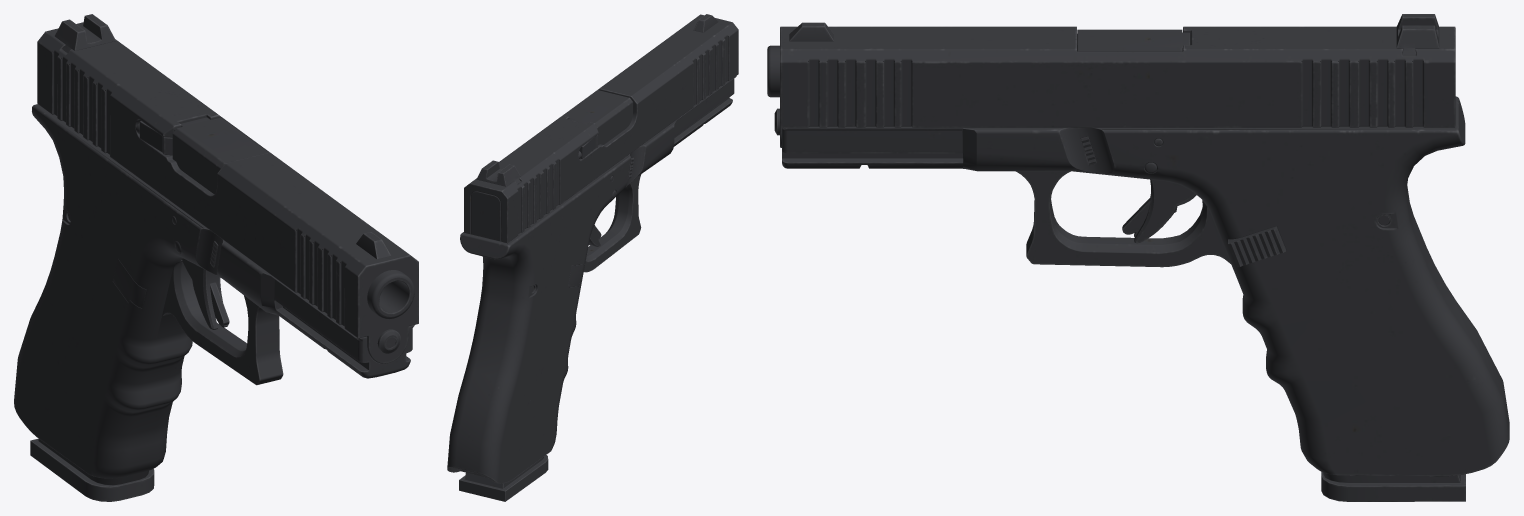
The model's file is wpn_project_sidearm_glock19.glb.
The picture shows the model from 3 angles, left to right: view 1: azimuth 30°, elevation 25°; view 2: azimuth 150°, elevation 25°; view 3: azimuth 270°, elevation 25°; orthographic projection. The views are drawn at different scales.
Parts seen in each view (by area): view 1: wpn_project_sidearm_glock19_lod0; view 2: wpn_project_sidearm_glock19_lod0; view 3: wpn_project_sidearm_glock19_lod0.
Part boxes in pixels (x1=…): wpn_project_sidearm_glock19_lod0: x1=14, y1=14, x2=418, y2=501; wpn_project_sidearm_glock19_lod0: x1=447, y1=14, x2=738, y2=501; wpn_project_sidearm_glock19_lod0: x1=767, y1=14, x2=1509, y2=501.
Size of the model in its own units: 0.0226 by 0.1288 by 0.187.
1 material, 1 textured.
